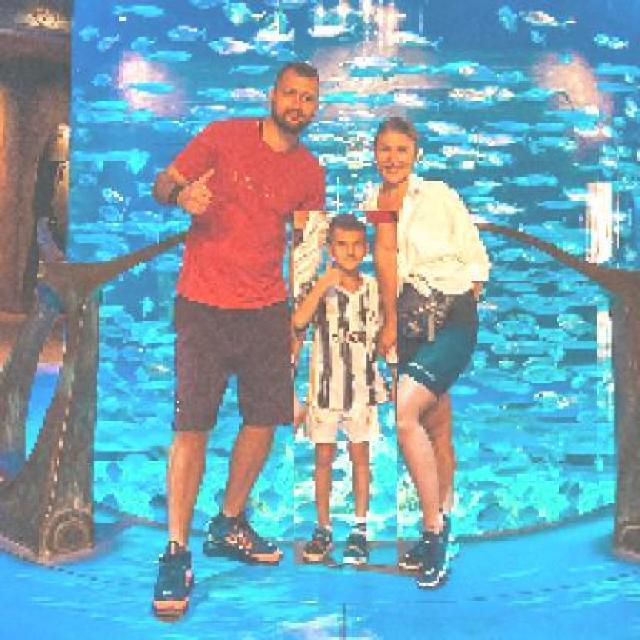child: (292, 211, 397, 566)
